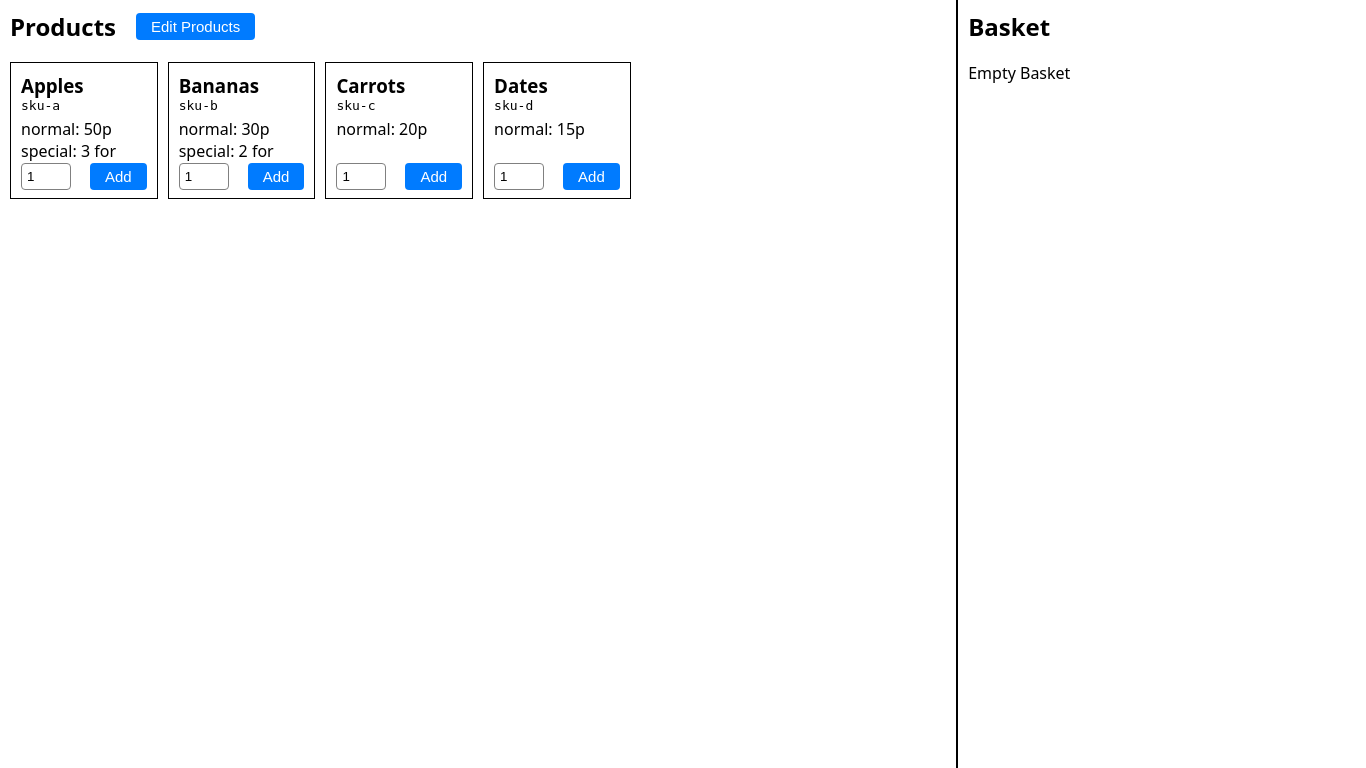
Test: Shopping website › products › products can be added to the basket
This screenshot has width=1366, height=768.
Click the button "Add" in the row of "130": (119, 177) [90, 163, 147, 190]
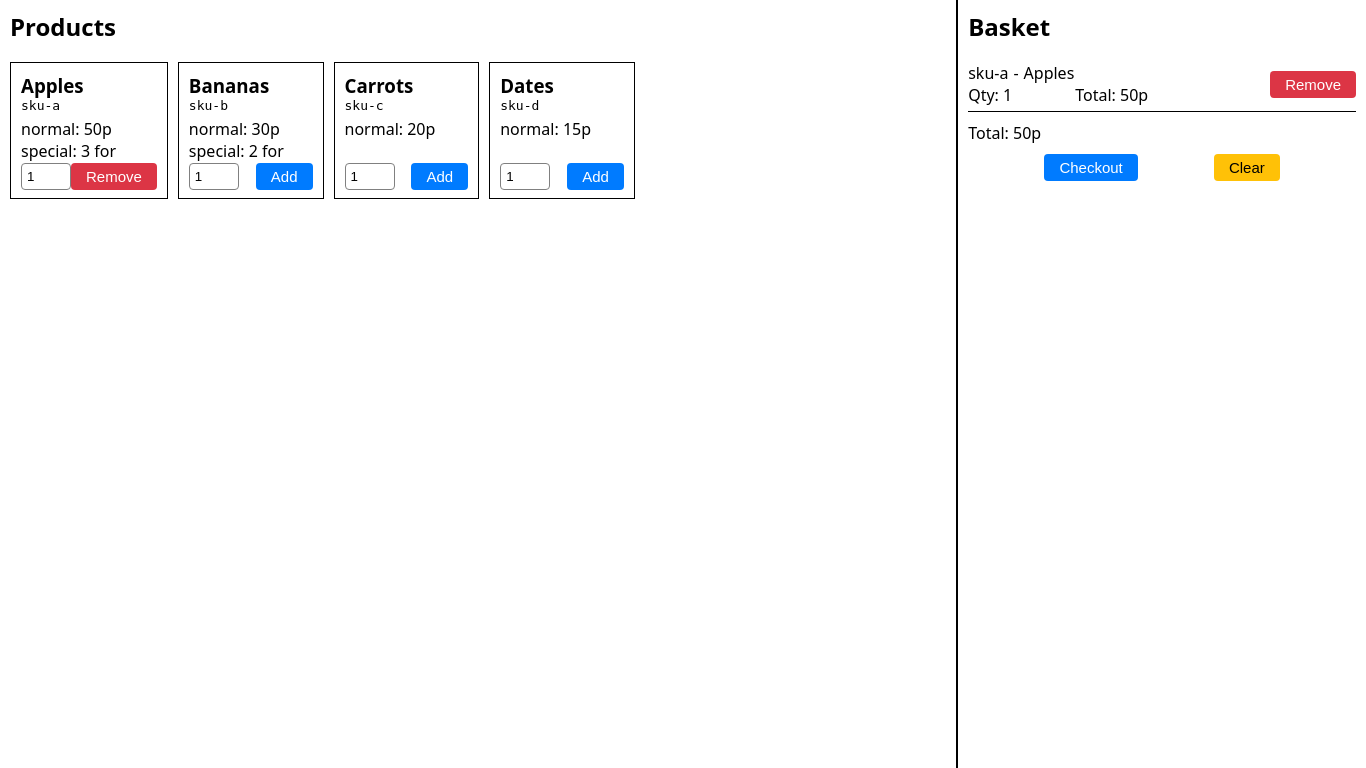
Now the button "Remove" in the row of "130" is shown, box [71, 163, 157, 190]
Now the text with class "items" no longer shows "Empty Basket"
Now the element showing "sku-a - apples Qty: 1 Total: 50p Remove" is shown, box [968, 62, 1356, 112]
